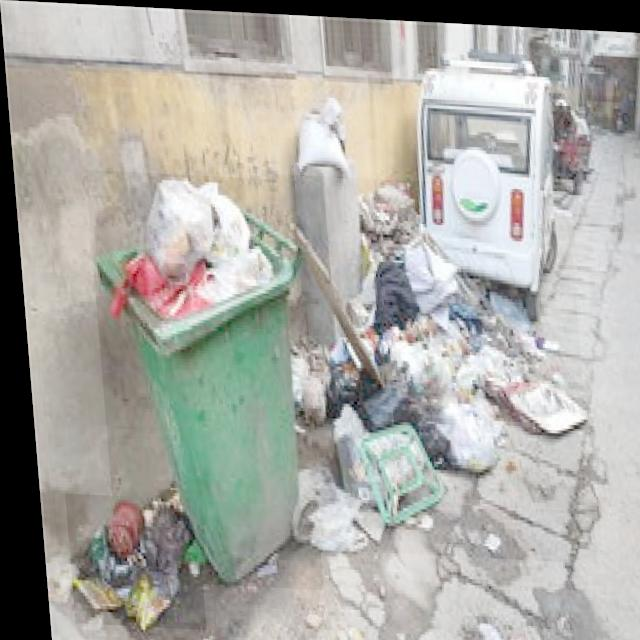garbage: (268, 170, 588, 558), (56, 493, 196, 628)
overflow: (83, 169, 314, 587)
